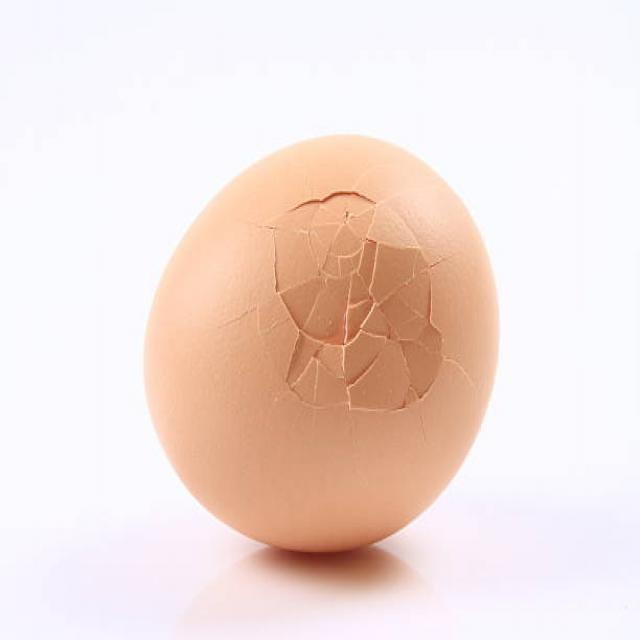biodegradable: (136, 94, 516, 571)
